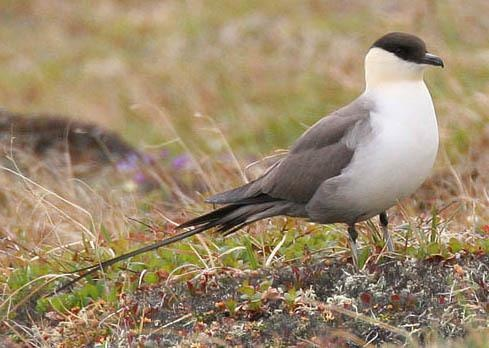bird: (52, 30, 444, 295)
